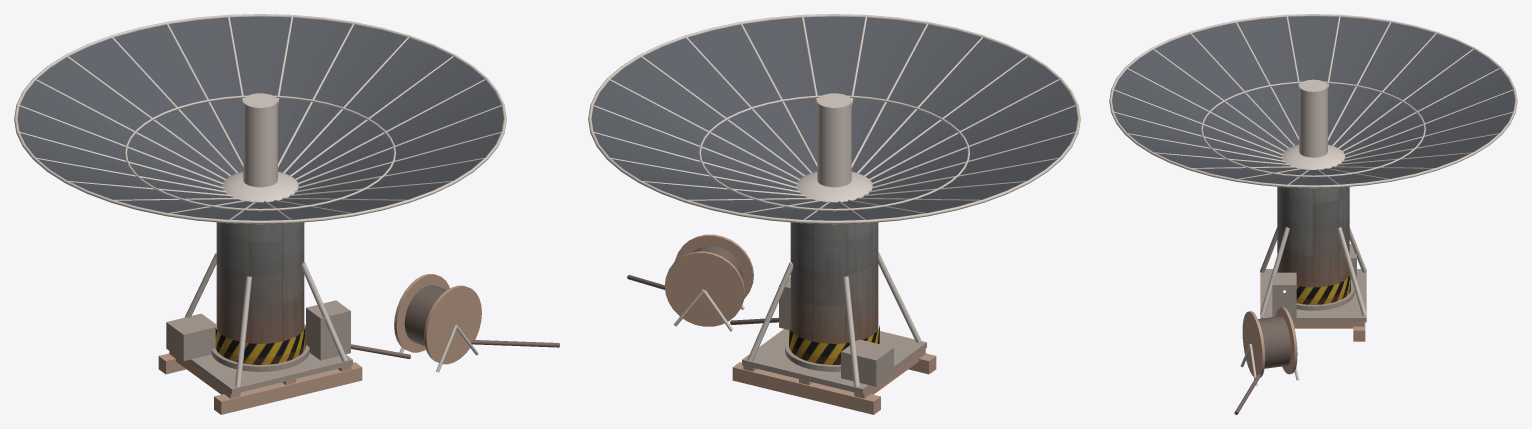
File: E04_fission_reactor_large.glb
3 views of the same model, side by side, from view 1: azimuth 30°, elevation 25°; view 2: azimuth 150°, elevation 25°; view 3: azimuth 270°, elevation 25° (orthographic). The views are drawn at different scales.
Parts seen in each view (by area): view 1: radiator_cone, reactor_vessel, reel_flange (×2), radiator_rim, heat_pipe_trunk, deck, skid, control_cabinet, converter_unit, warning_band, radiator_ring, vessel_head (+4 smaller); view 2: radiator_cone, reactor_vessel, reel_flange (×2), radiator_rim, heat_pipe_trunk, deck, skid, support_strut (×3), converter_unit, heat_pipe (×4), radiator_ring, vessel_head (+4 smaller); view 3: radiator_cone, reactor_vessel, radiator_rim, heat_pipe_trunk, deck, reel_flange (×2), cable_winding, radiator_ring, control_cabinet, vessel_head, warning_band, support_strut (×2) (+2 smaller).
Part boxes in pixels (<box>): radiator_cone: <box>17,17,503,220</box>; reactor_vessel: <box>216,222,304,343</box>; reel_flange (×2): <box>394,274,481,364</box>; radiator_rim: <box>14,14,506,224</box>; heat_pipe_trunk: <box>243,93,277,187</box>; deck: <box>186,324,352,394</box>; skid: <box>214,362,362,414</box>; control_cabinet: <box>306,300,350,360</box>; converter_unit: <box>166,313,217,361</box>; warning_band: <box>215,325,305,364</box>; radiator_ring: <box>125,95,396,211</box>; vessel_head: <box>222,171,298,202</box>; radiator_cone: <box>591,17,1077,220</box>; reactor_vessel: <box>790,222,878,343</box>; reel_flange (×2): <box>664,234,753,326</box>; radiator_rim: <box>588,14,1080,224</box>; heat_pipe_trunk: <box>817,93,851,187</box>; deck: <box>742,329,926,394</box>; skid: <box>732,362,880,414</box>; support_strut (×3): <box>747,252,921,386</box>; converter_unit: <box>841,339,893,386</box>; heat_pipe (×4): <box>609,56,1059,180</box>; radiator_ring: <box>698,95,970,211</box>; vessel_head: <box>796,171,872,202</box>; radiator_cone: <box>1112,16,1514,185</box>; reactor_vessel: <box>1277,186,1349,287</box>; radiator_rim: <box>1109,14,1517,188</box>; heat_pipe_trunk: <box>1299,79,1327,157</box>; deck: <box>1260,269,1366,322</box>; reel_flange (×2): <box>1242,307,1297,377</box>; cable_winding: <box>1258,316,1291,368</box>; radiator_ring: <box>1201,81,1425,177</box>; control_cabinet: <box>1272,272,1296,319</box>; vessel_head: <box>1281,144,1345,169</box>; warning_band: <box>1296,275,1350,304</box>; support_strut (×2): <box>1260,227,1366,315</box>.
Bounding box in the file's own units: 9.24 × 5.19 × 8.46.
9 materials, 2 textured.
